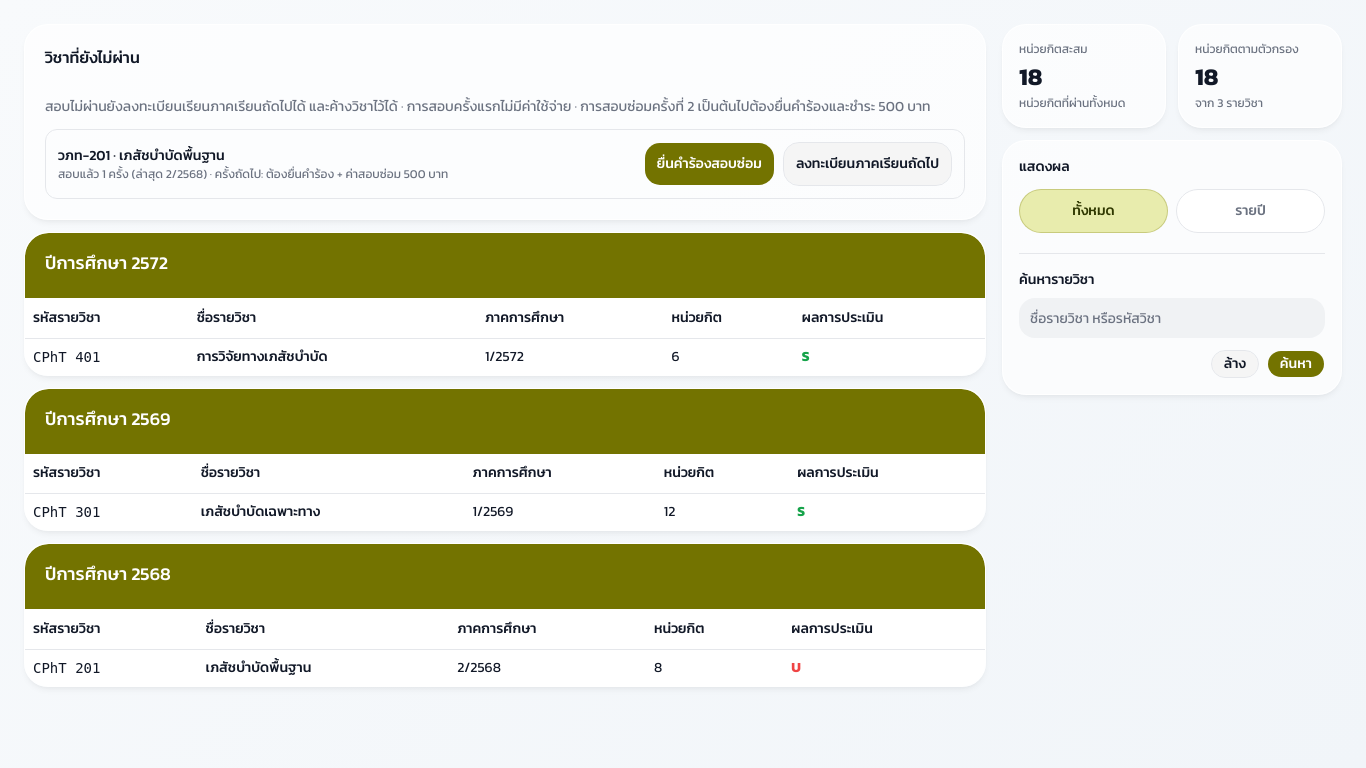
Test: MemberResultsPage › limits results to the selected year in yearly mode
Click the button "รายปี" at point(1250, 211), box x1=1176 y1=189 x2=1325 y2=233
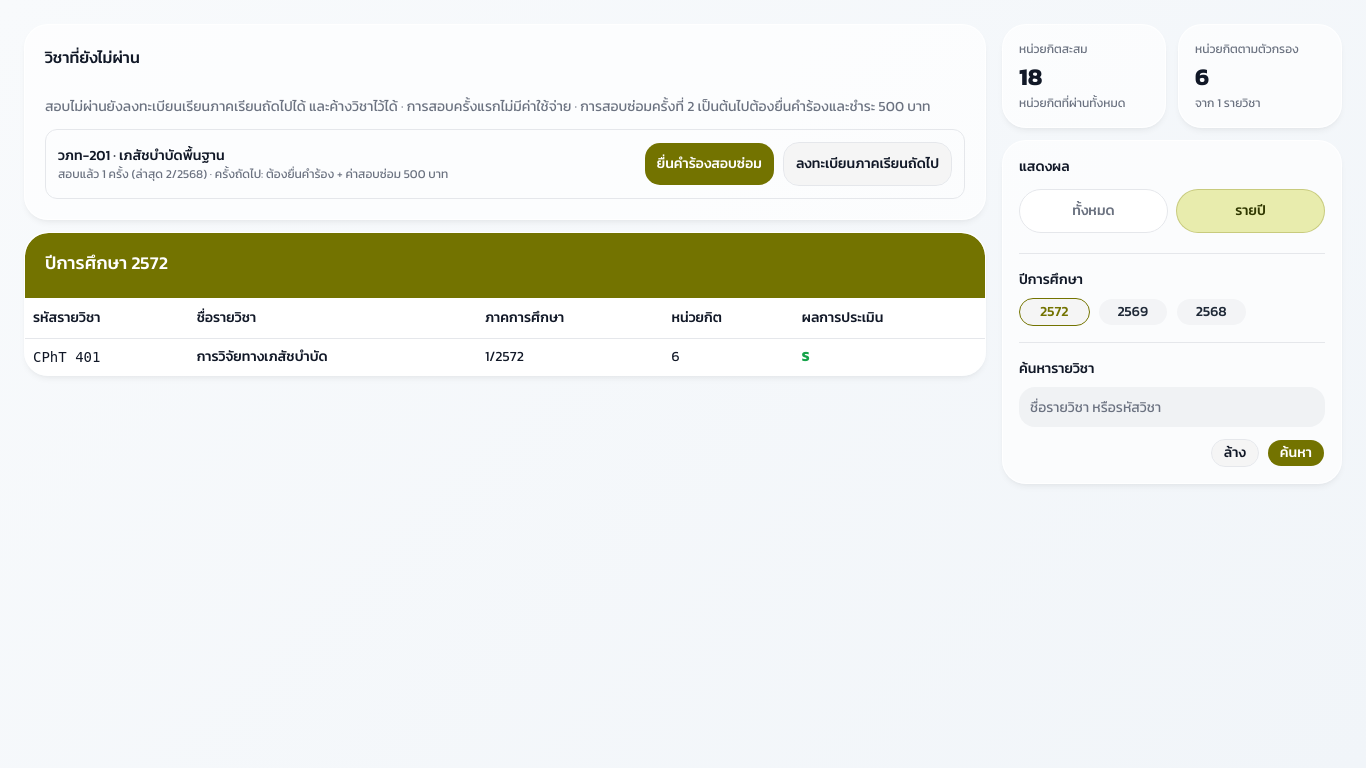
Click the button "2568" at point(1211, 312), box x1=1176 y1=298 x2=1246 y2=326
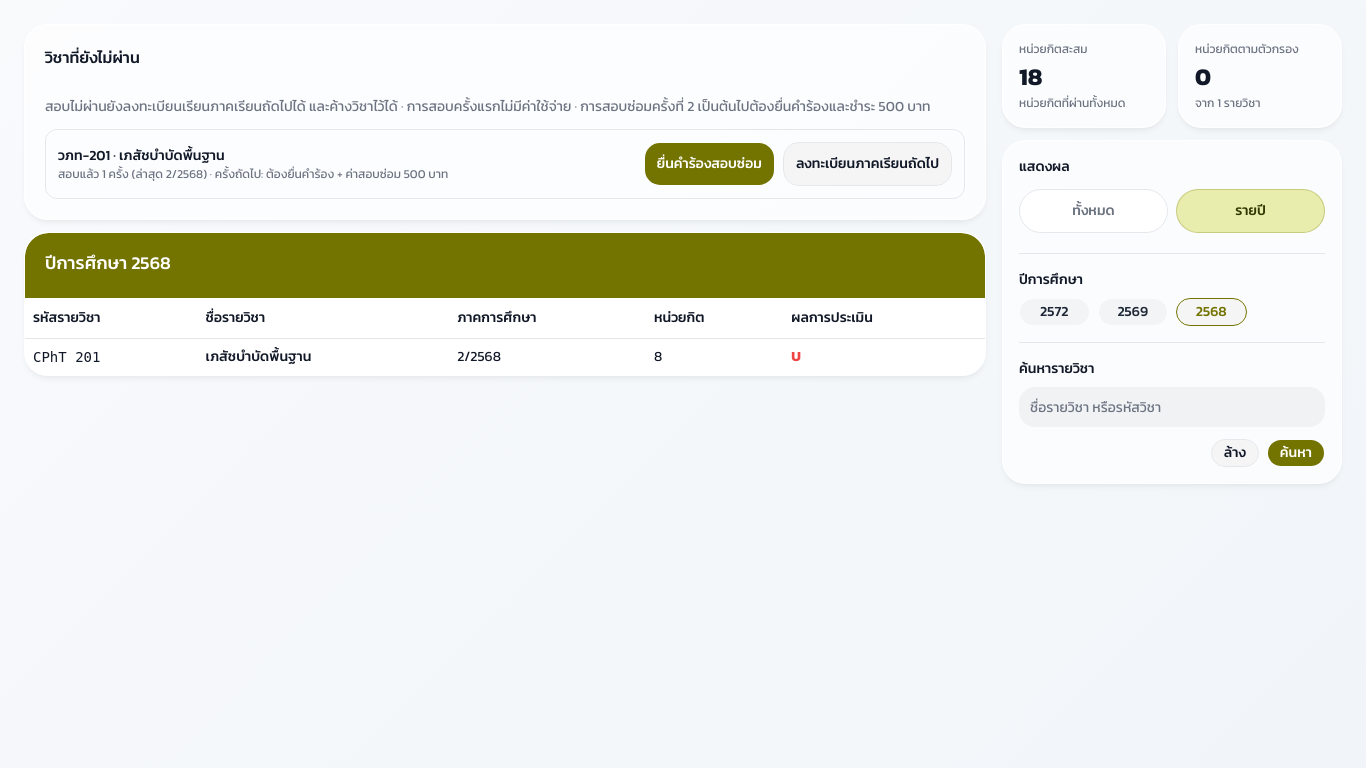
Now the text "ปีการศึกษา 2568" is shown, box x1=45 y1=249 x2=171 y2=276
Now the text "เภสัชบำบัดพื้นฐาน" is shown, box x1=198 y1=338 x2=449 y2=374
Now the text "การวิจัยทางเภสัชบำบัด" is gone
